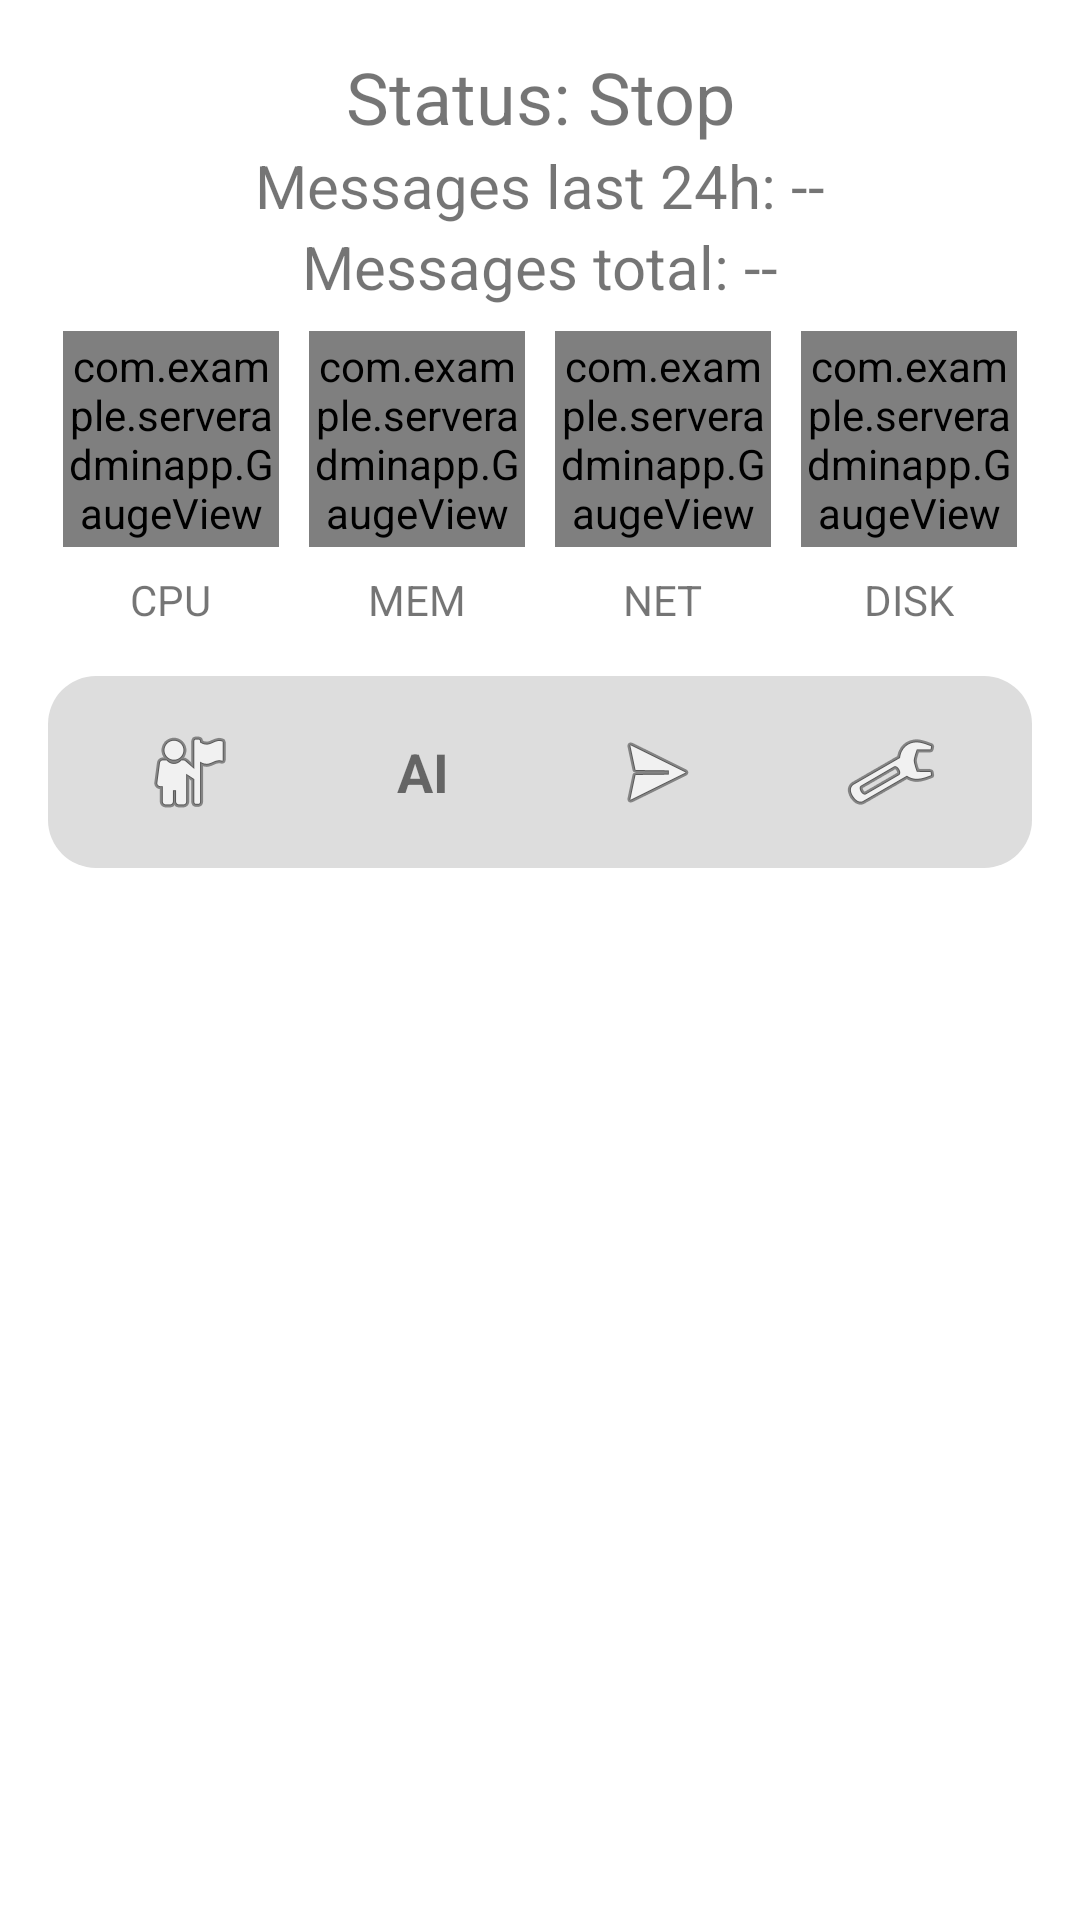

Point at icon controls on the screen. Image size 1080px×1920px, points as [x,y].
Chats: [658,772]
Settings: [891,772]
Users: [190,772]
